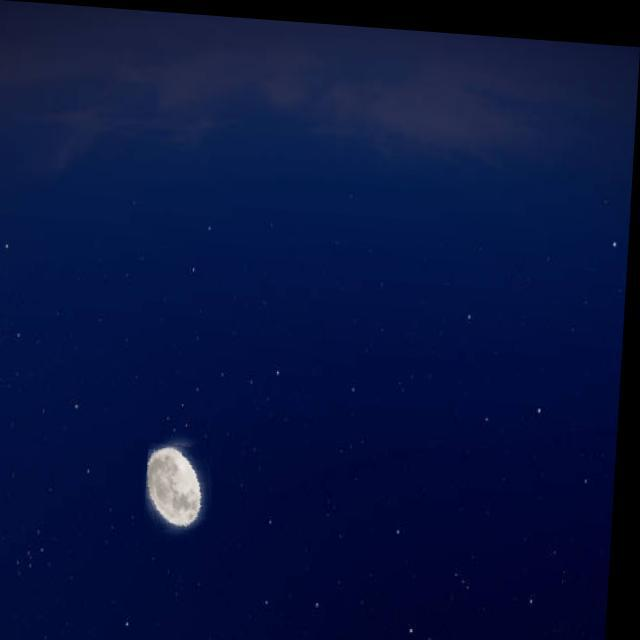moon: (150, 439, 221, 528)
